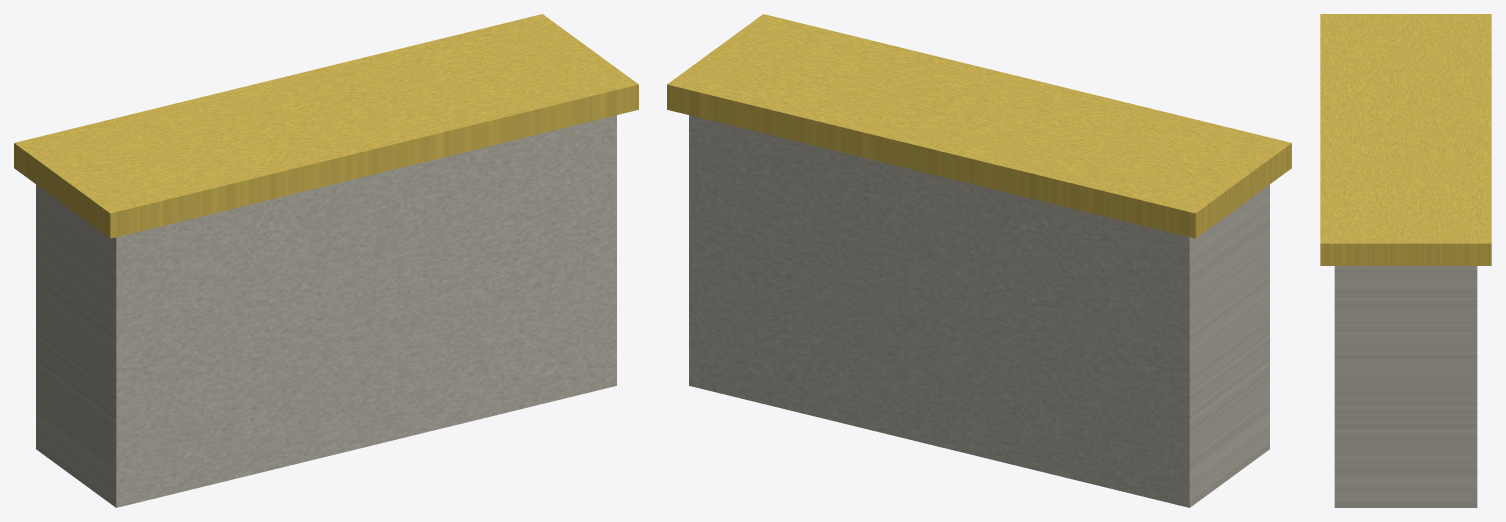
The model's file is concrete_barrier_lod2.glb.
The picture shows the model from 3 angles, left to right: view 1: azimuth 30°, elevation 25°; view 2: azimuth 150°, elevation 25°; view 3: azimuth 270°, elevation 25°; orthographic projection. The views are drawn at different scales.
Parts seen in each view (by area): view 1: world; view 2: world; view 3: world.
Part boxes in pixels (x1,y1,x2,y2): world: (14,14,638,507); world: (667,14,1291,507); world: (1320,14,1491,507).
Bounding box in the file's own units: 2.85 × 1.57 × 0.9.
2 materials, 2 textured.
